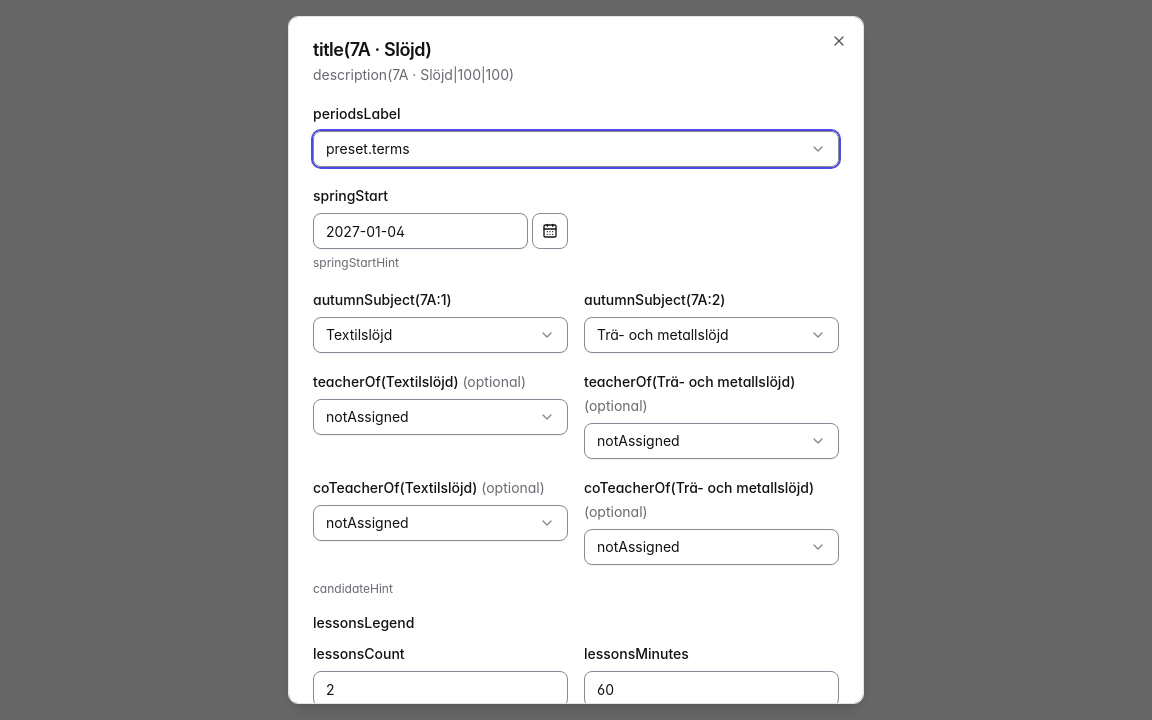
Test: TermHalvesDialog › will not send the same subject for both halves, and says why
The width and height of the screenshot is (1152, 720).
Click the dropdown named "autumnSubject(7A:2)" at (712, 335), box [584,317,839,353]
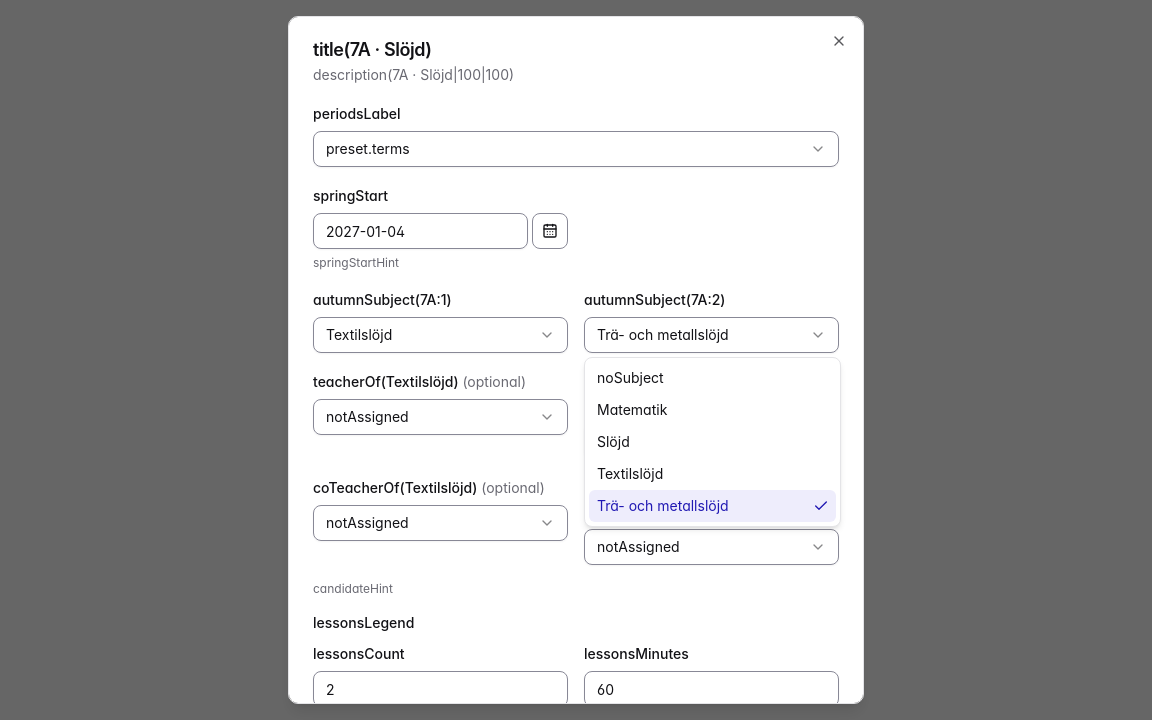
Click the option "Textilslöjd" at (630, 474), box [597,465,663,482]
(page scrolled)
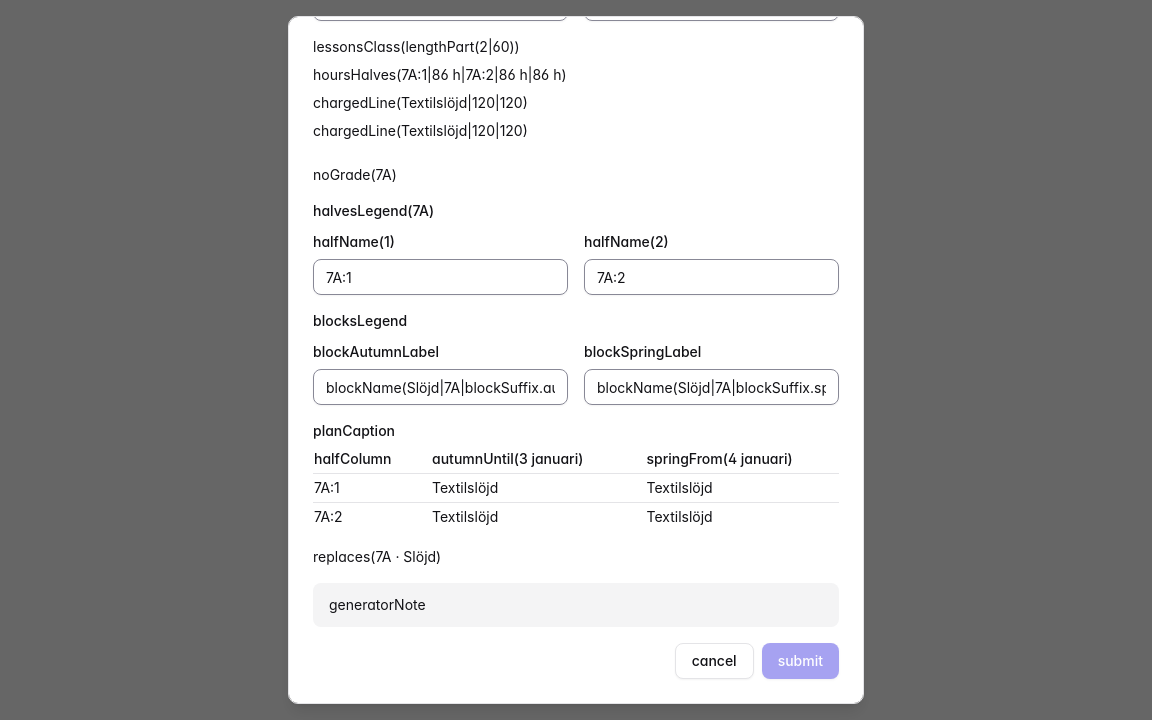
Now the button "submit" is disabled, box [762,643,839,679]
